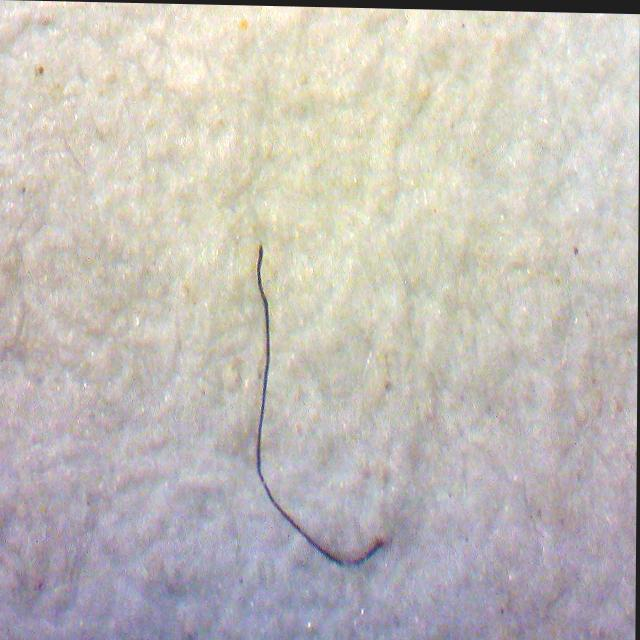microplastic: (175, 243, 391, 588)
